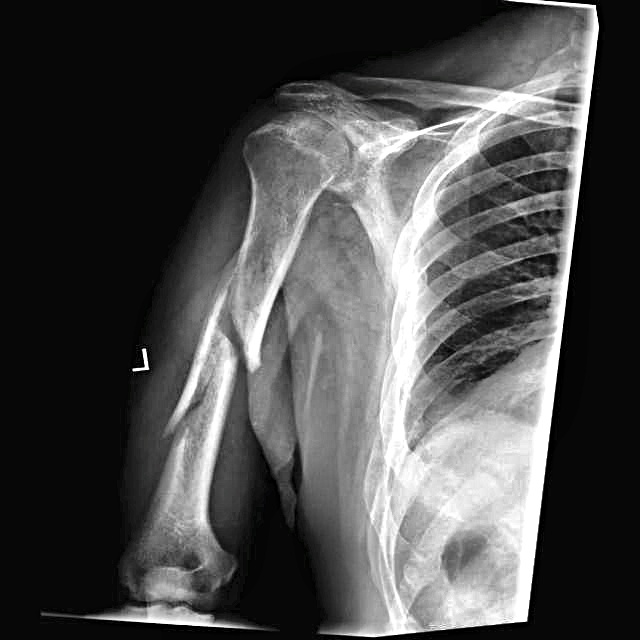Spiral: (160, 284, 283, 444)
